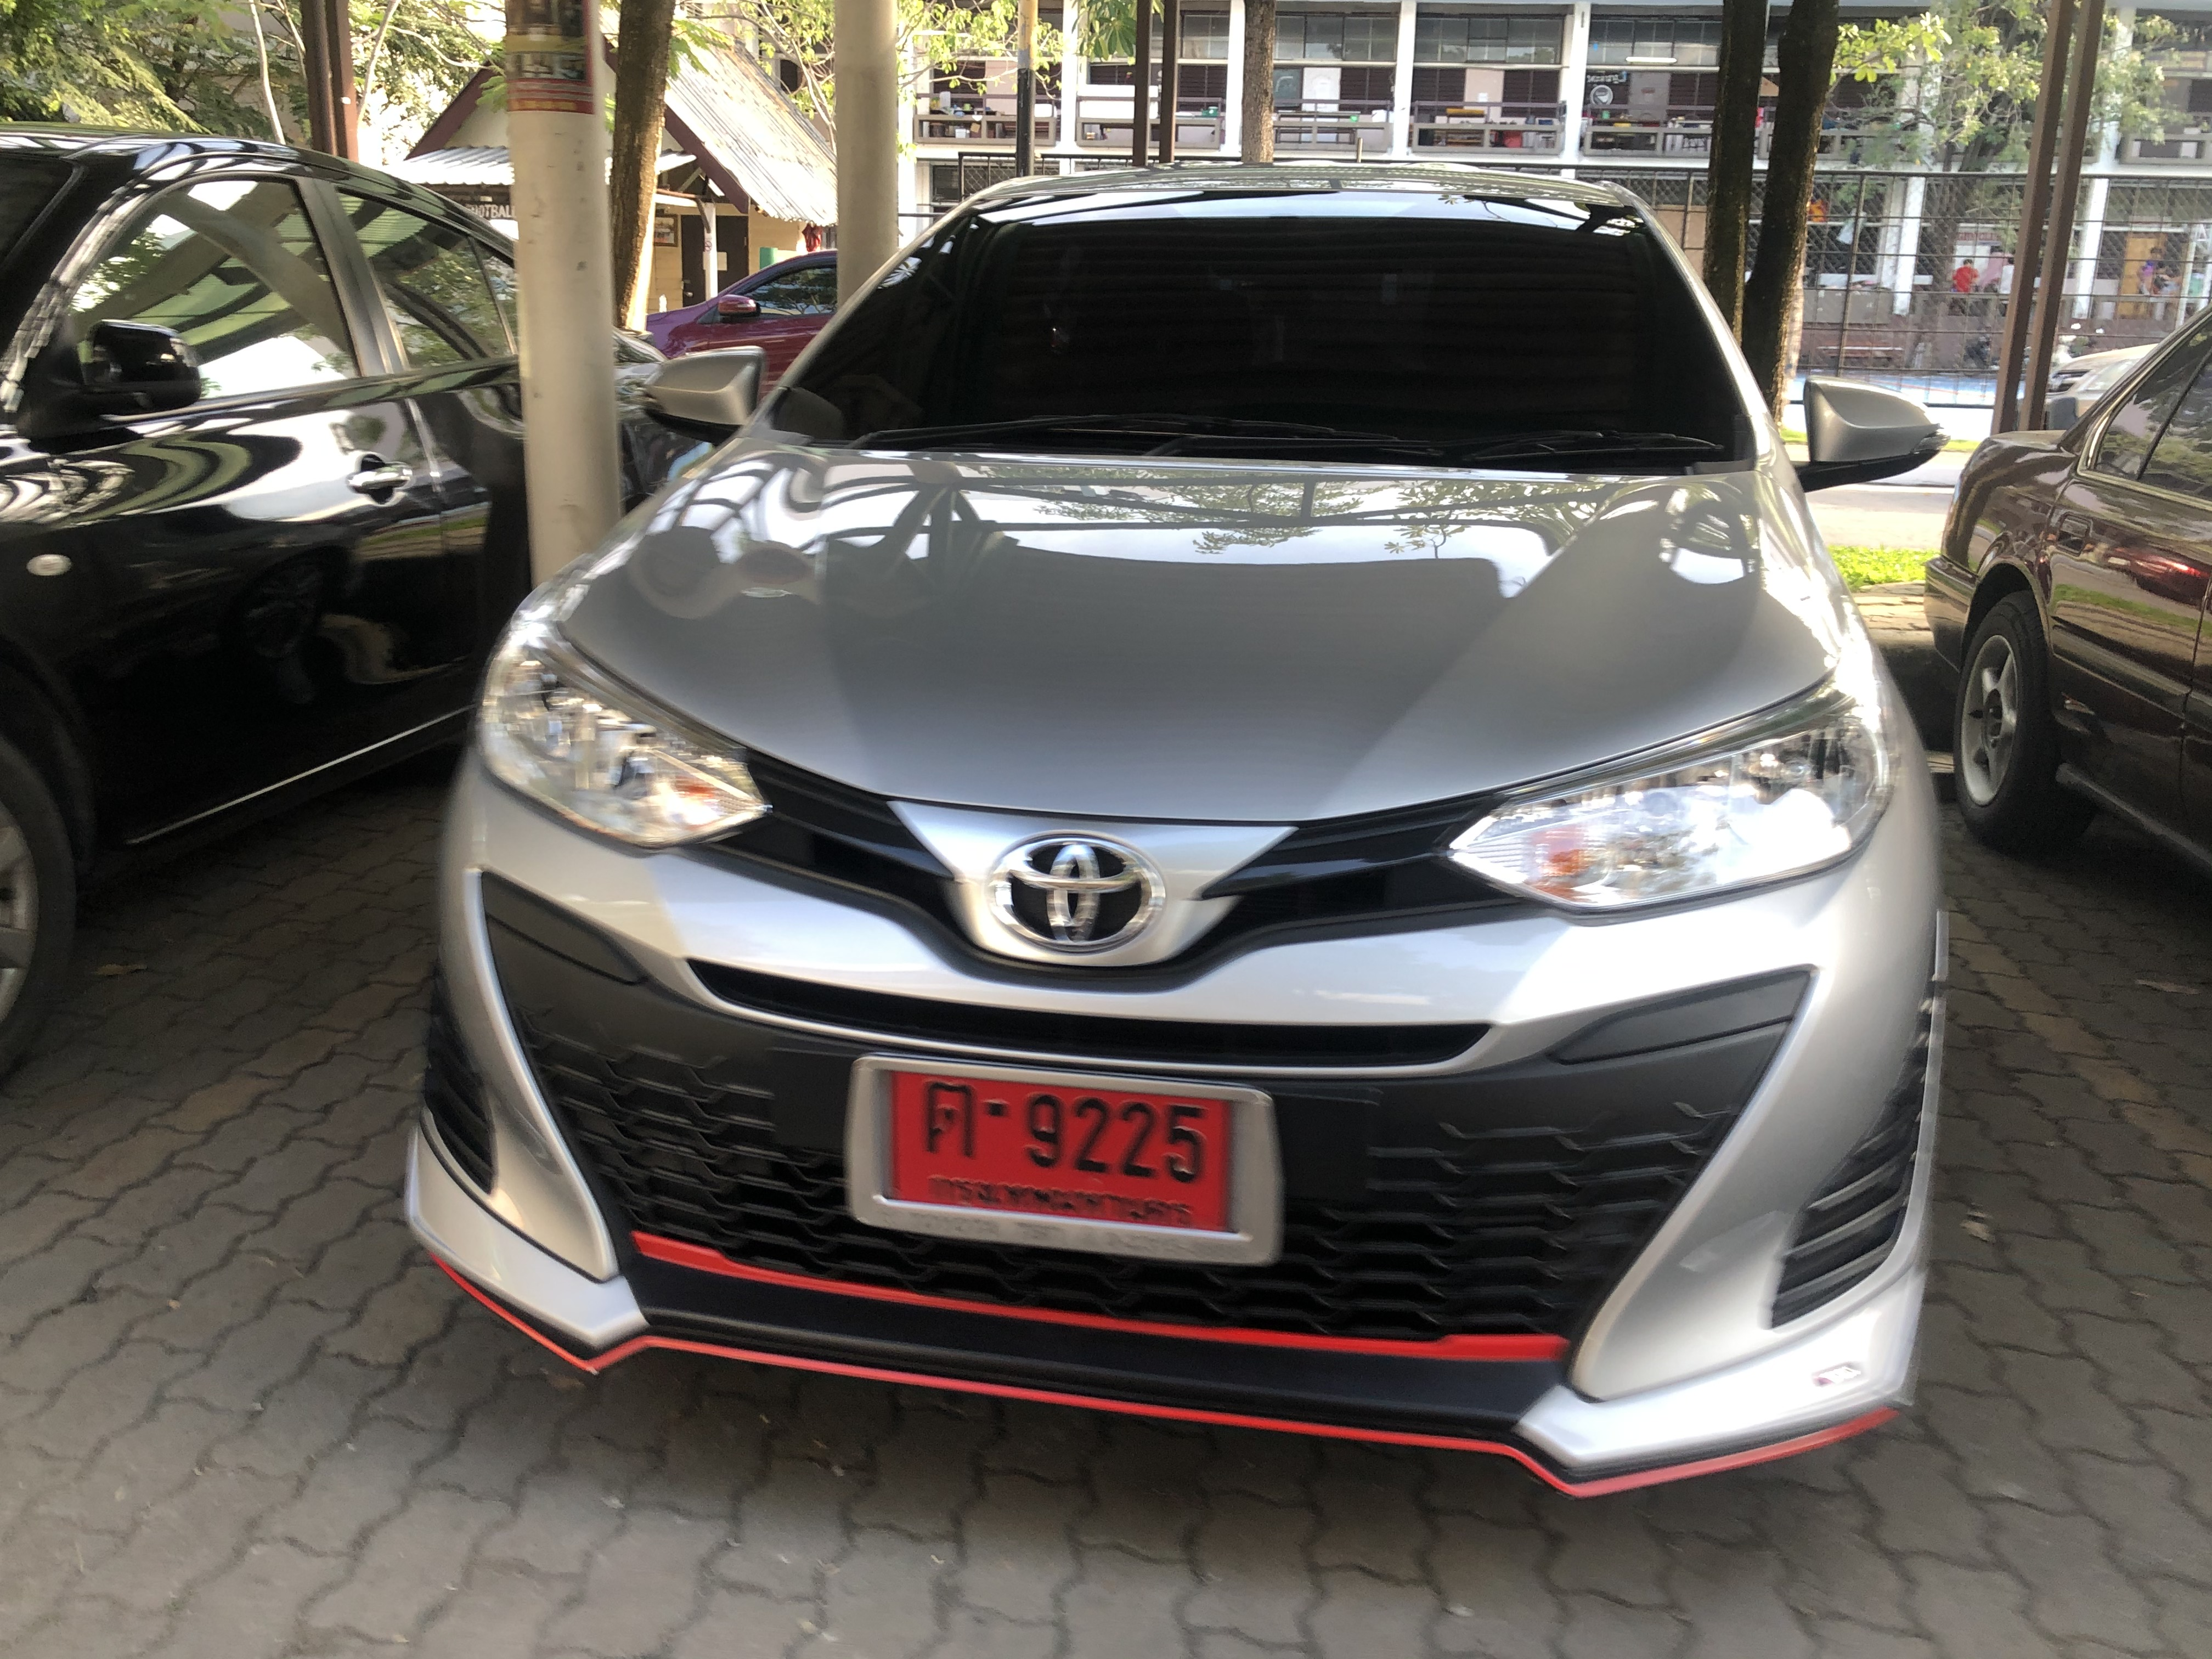in: (885, 1072, 1240, 1232)
out: (843, 1051, 1285, 1270)
